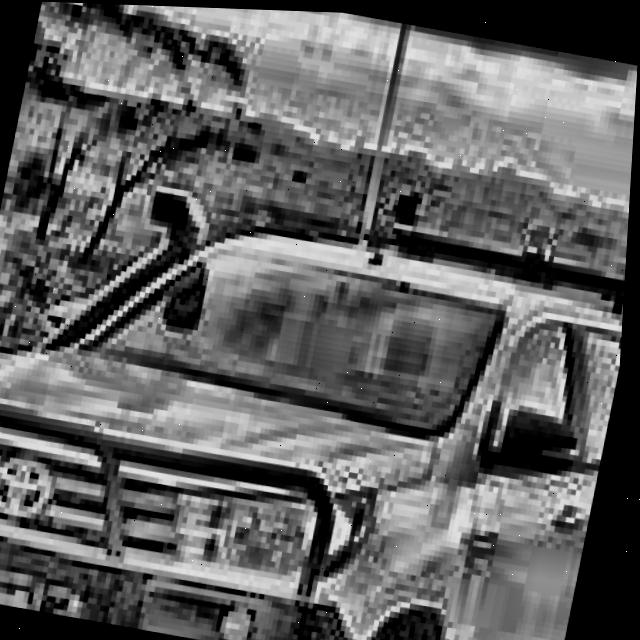light_vehicle: (0, 125, 634, 640)
